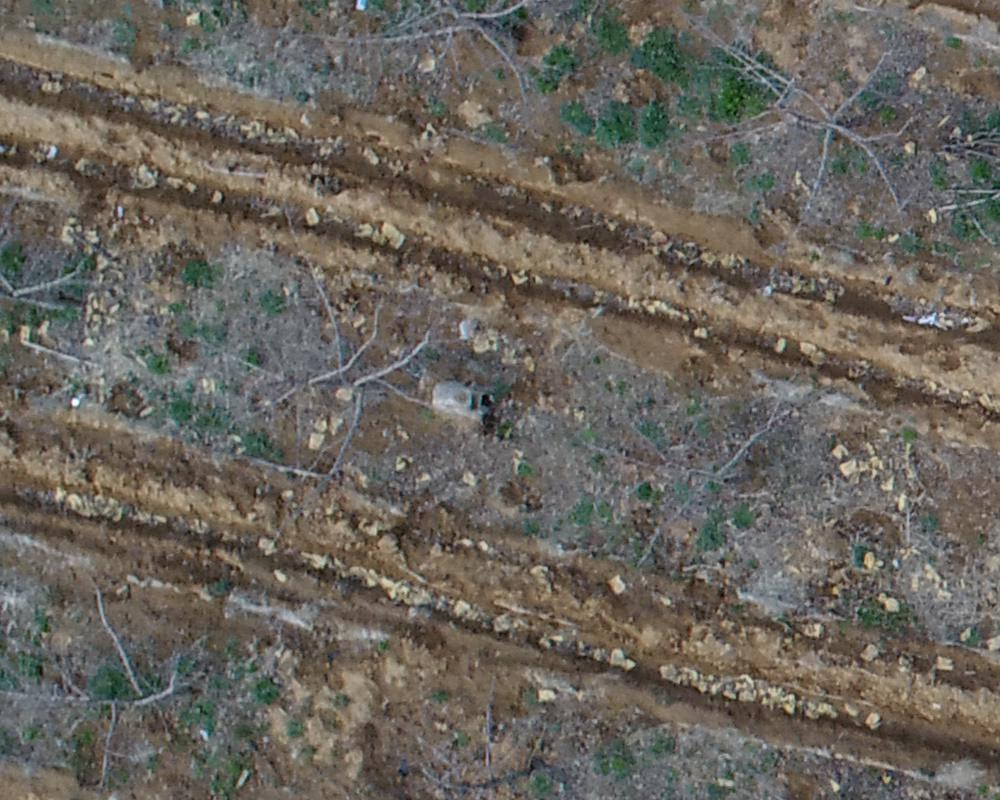apple: (666, 11, 922, 235), (199, 264, 432, 485), (578, 363, 812, 572), (22, 594, 219, 790), (293, 10, 565, 116), (407, 704, 571, 790)
